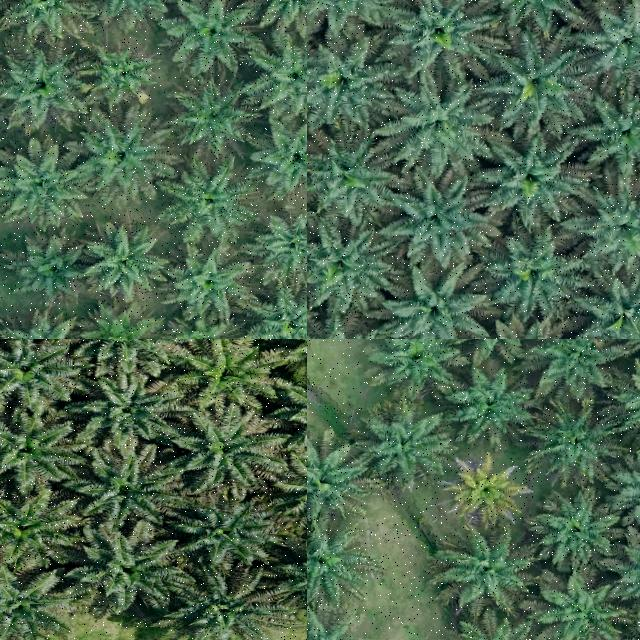Ganoderma: (454, 462, 518, 517)
